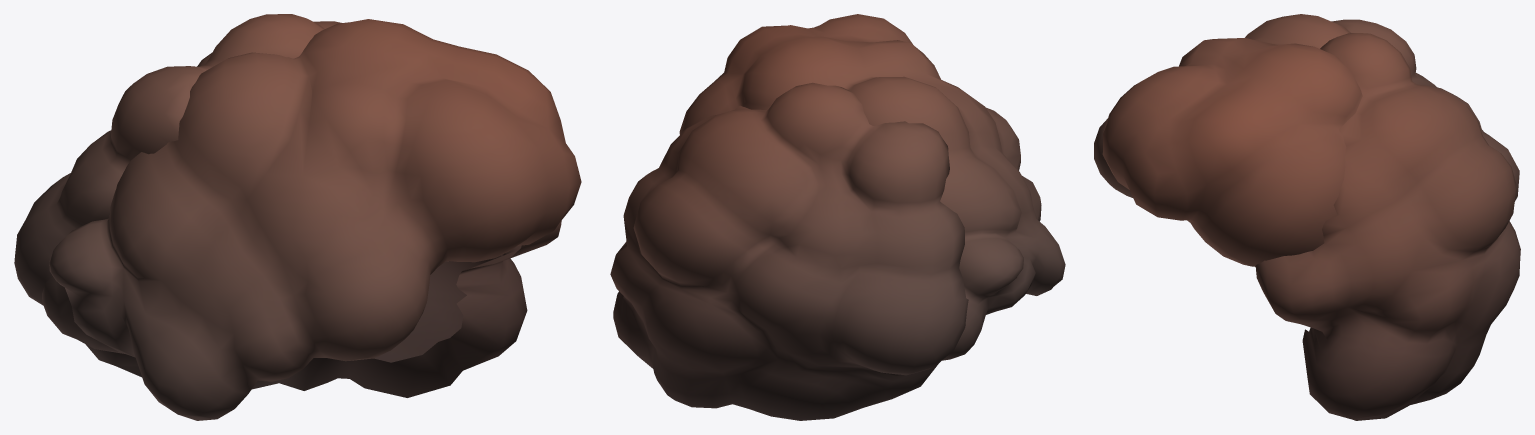
File: Hairstyle_Female_08.glb
3 renders of one model, left to right at view 1: azimuth 30°, elevation 25°; view 2: azimuth 150°, elevation 25°; view 3: azimuth 270°, elevation 25°, orthographic. The views are drawn at different scales.
Visible parts, largest first — view 1: Hairstyle_Female_08; view 2: Hairstyle_Female_08; view 3: Hairstyle_Female_08.
Part boxes in pixels (box(x1,y1,x2,y2)): Hairstyle_Female_08: box(14, 14, 581, 420); Hairstyle_Female_08: box(610, 14, 1065, 420); Hairstyle_Female_08: box(1094, 14, 1520, 420).
Bounding box in the file's own units: 0.7105 × 0.5875 × 0.6887.
Materials: 1 (1 with a texture image).
